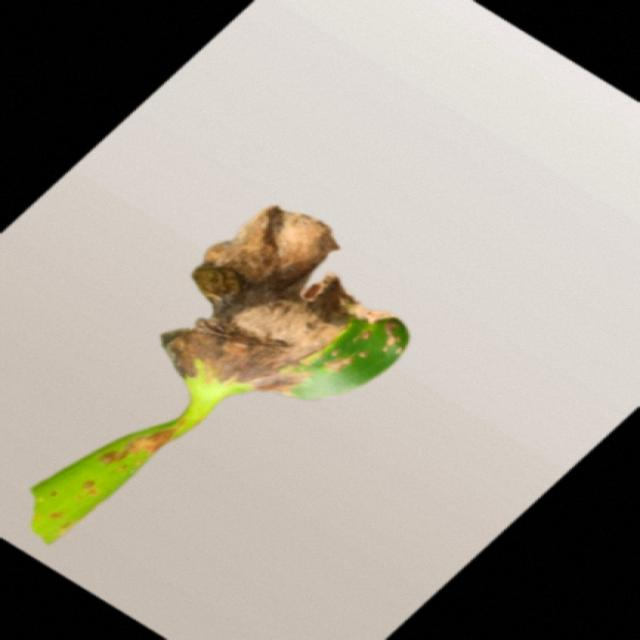daun berpenyakit karat: (32, 208, 408, 544)
